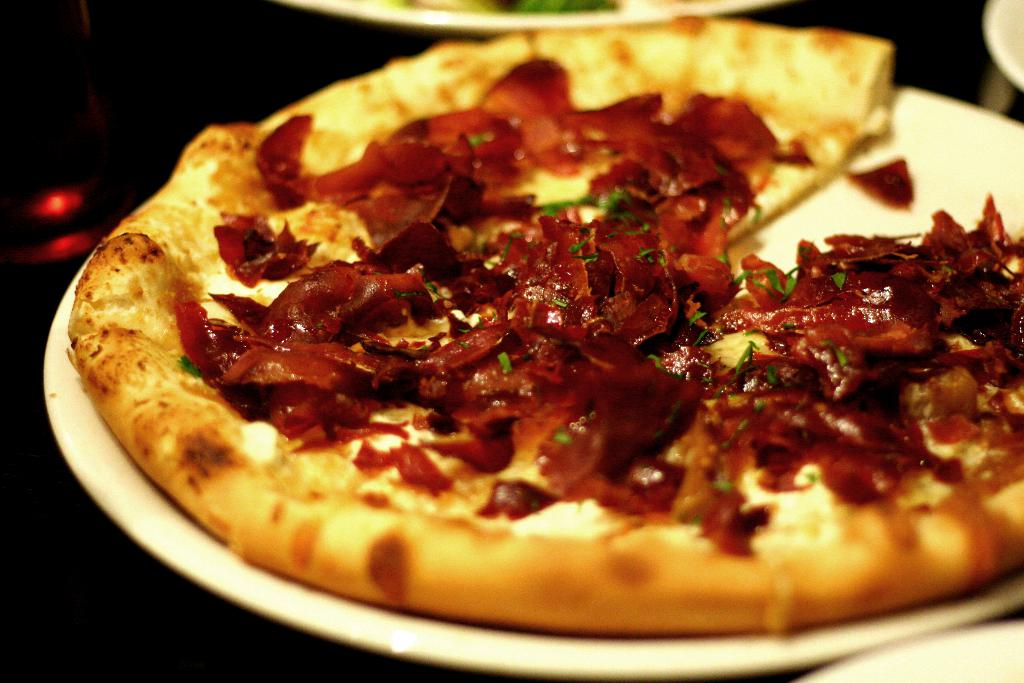Pizza: (80, 28, 1024, 648)
